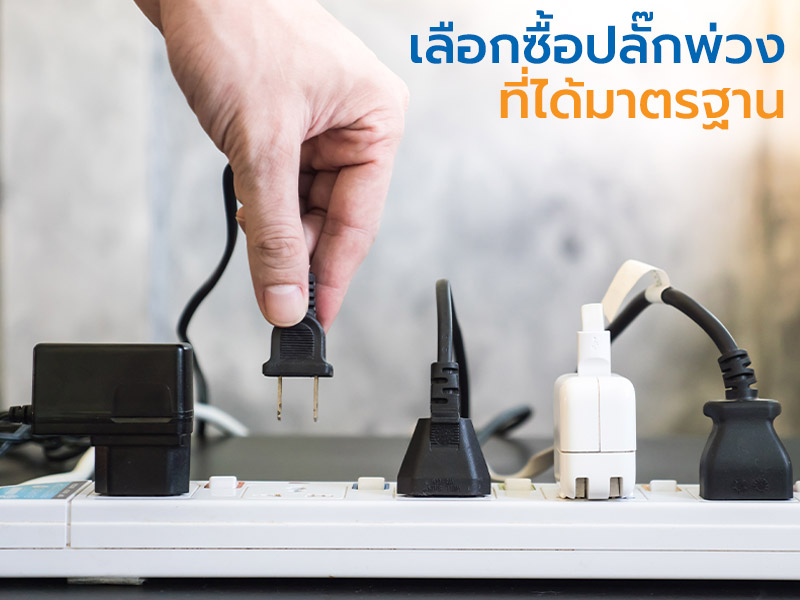Three_eye_plug: (1, 458, 800, 587)
